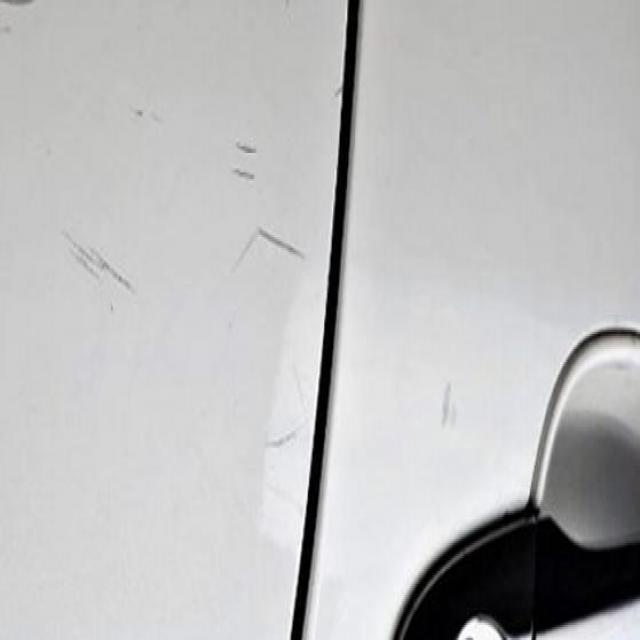scratch: (50, 210, 151, 322), (224, 214, 316, 288), (226, 128, 258, 189)
